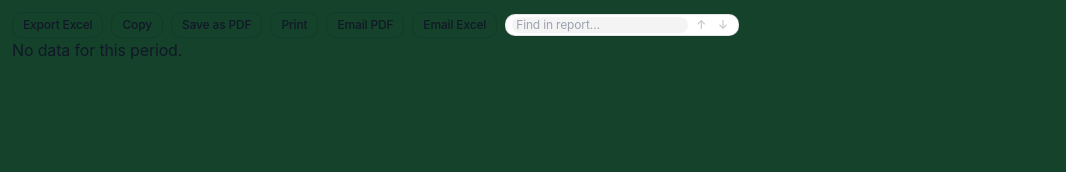
Test: when there is nothing to export › says so rather than saving an empty file
This screenshot has width=1066, height=172.
Click the button "Export Excel". click: (58, 25)
box: 12,12 -> 104,38
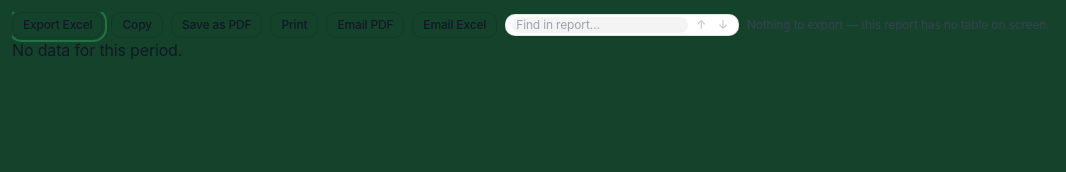
Expected: the text "Nothing to export — this report has no table on screen." is shown, 747,17 -> 1049,33
